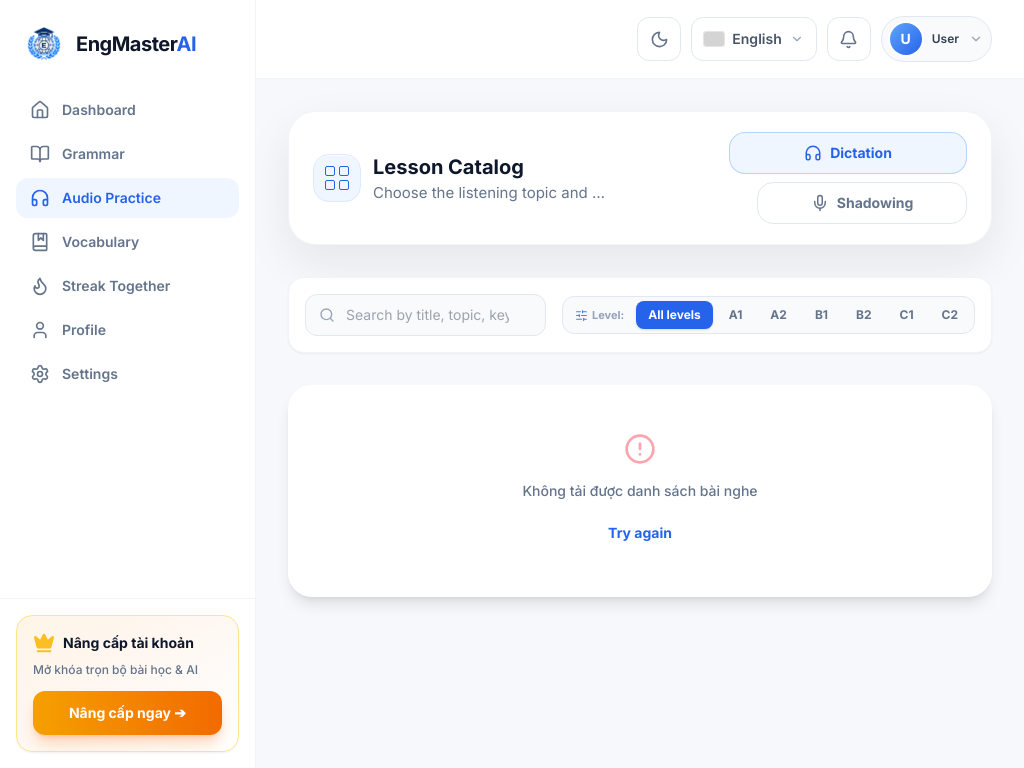
Test: Listening catalog — the four states never blend › shows an explicit, retryable error — NOT an empty catalog
This screenshot has width=1024, height=768.
Expected: the text "Không tải được danh sách bài nghe" is shown, [522,482,758,499]
Click the button "Try again" at {"x": 640, "y": 533}, box [596,517,684,549]
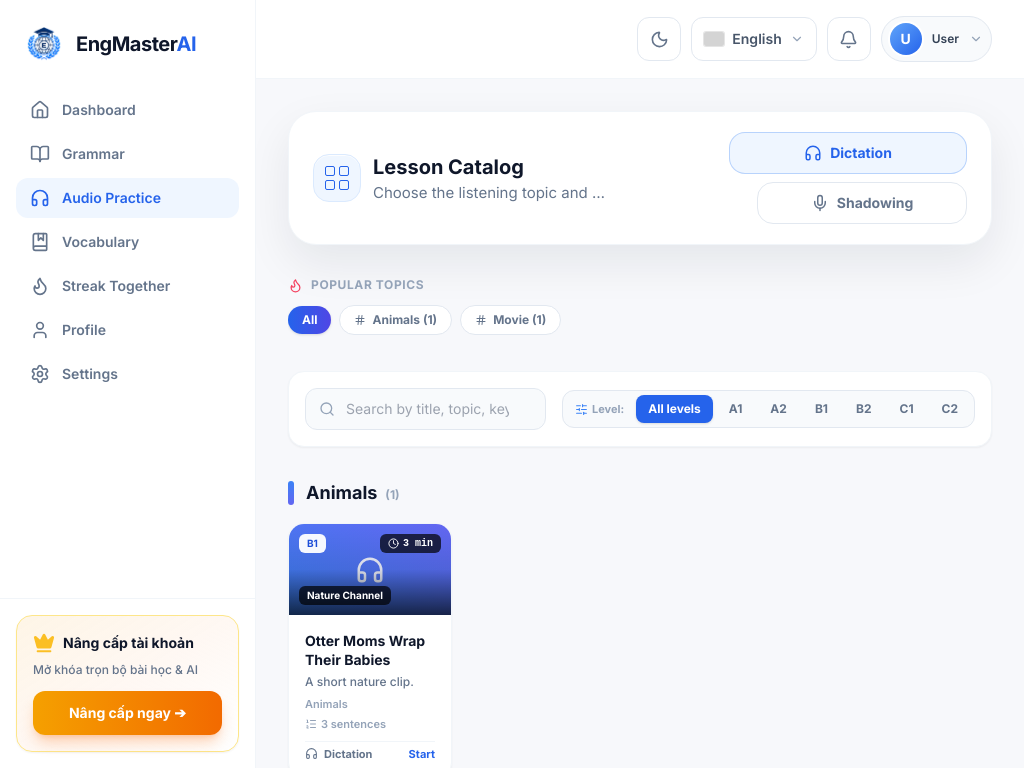
Expected: the text "Otter Moms Wrap Their Babies" is shown, [305,631,435,670]
